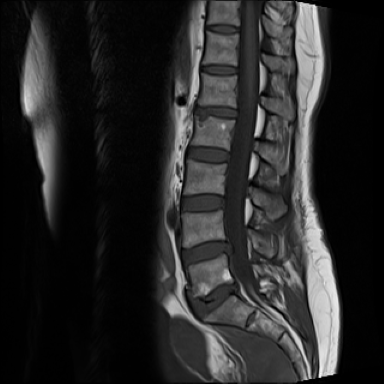Degenerative Disc Disease (DDD): (192, 101, 240, 122)
Lumbar Disc Bulge (LDB): (182, 276, 244, 325), (179, 235, 236, 270)
Spinal Stenosis (SS): (217, 232, 235, 258), (228, 276, 241, 300)
